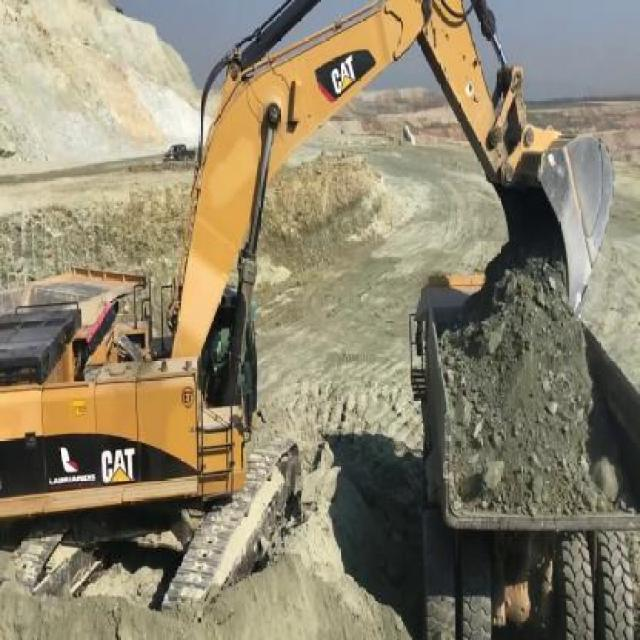Dump Truck: (412, 260, 639, 638)
Excavator: (0, 0, 617, 623)
